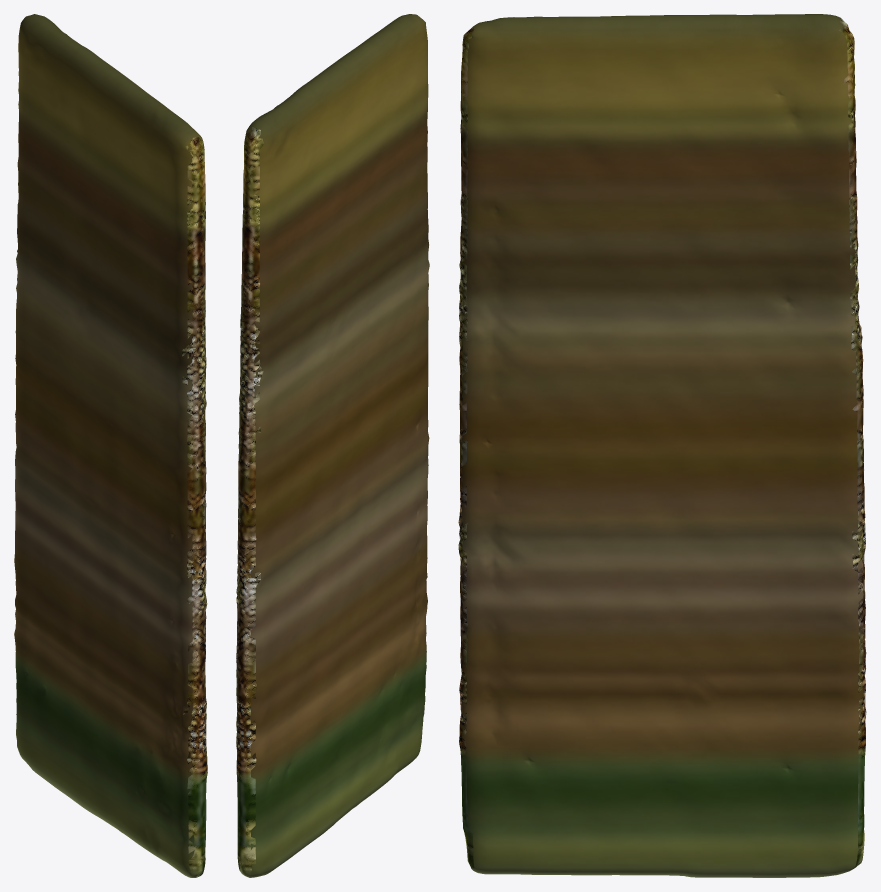
The model's file is kfl-2264.glb.
The picture shows the model from 3 angles, left to right: view 1: azimuth 30°, elevation 25°; view 2: azimuth 150°, elevation 25°; view 3: azimuth 270°, elevation 25°; orthographic projection. The views are drawn at different scales.
Parts seen in each view (by area): view 1: kfl-2264; view 2: kfl-2264; view 3: kfl-2264.
Boxes of the visible parts, x1,y1,x2,y2 form: kfl-2264: [14, 14, 207, 877]; kfl-2264: [236, 14, 429, 877]; kfl-2264: [458, 14, 866, 877].
Bounding box in the file's own units: 0.0437 × 0.9936 × 0.4274.
4 materials, 4 textured.
